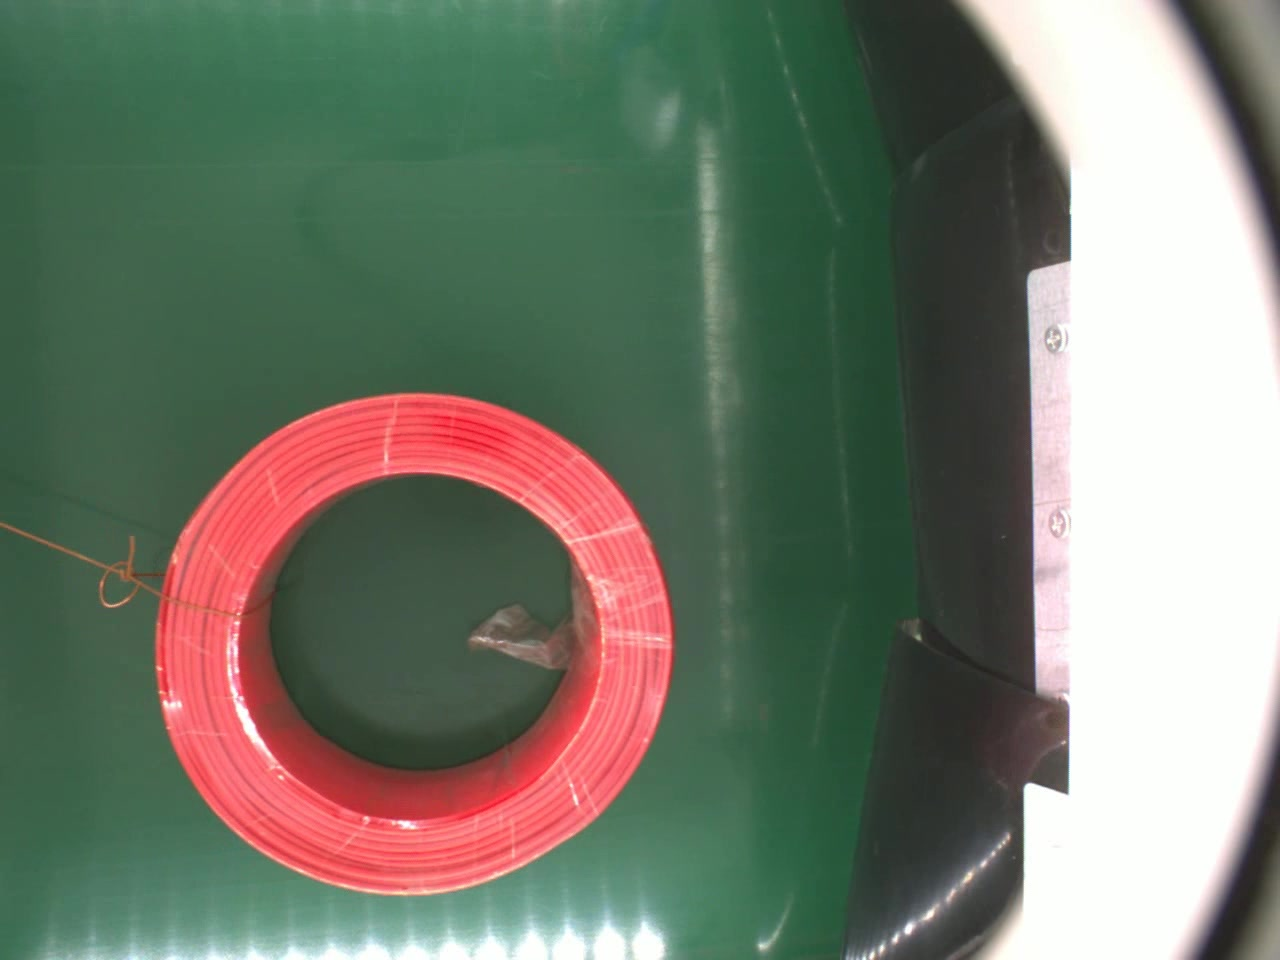red: (150, 381, 683, 901)
